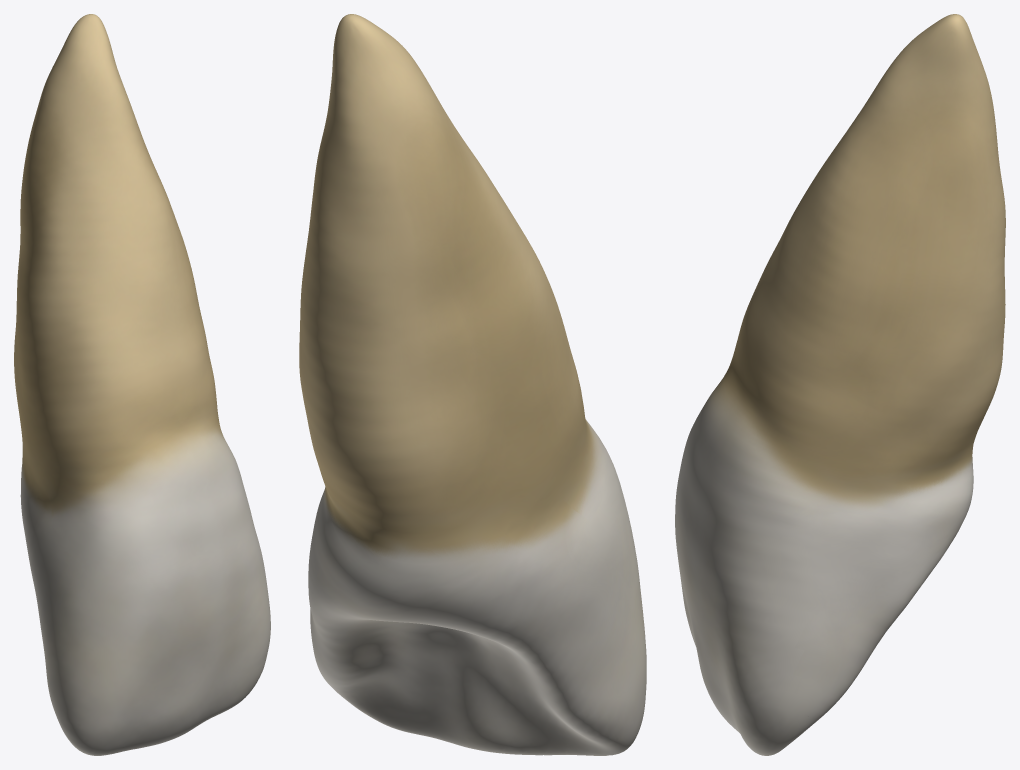
Rendered from maxillary_left_central_incisor.glb.
3 views of the same model, side by side, from view 1: azimuth 30°, elevation 25°; view 2: azimuth 150°, elevation 25°; view 3: azimuth 270°, elevation 25° (orthographic). The views are drawn at different scales.
Parts seen in each view (by area): view 1: Object_2; view 2: Object_2; view 3: Object_2.
Boxes of the visible parts, box(x1,y1,x2,y2) form: Object_2: box(14, 14, 270, 755); Object_2: box(299, 14, 646, 755); Object_2: box(675, 14, 1005, 755).
Bounding box in the file's own units: 0.32 × 0.8746 × 0.3643.
Materials: 1 (1 with a texture image).
